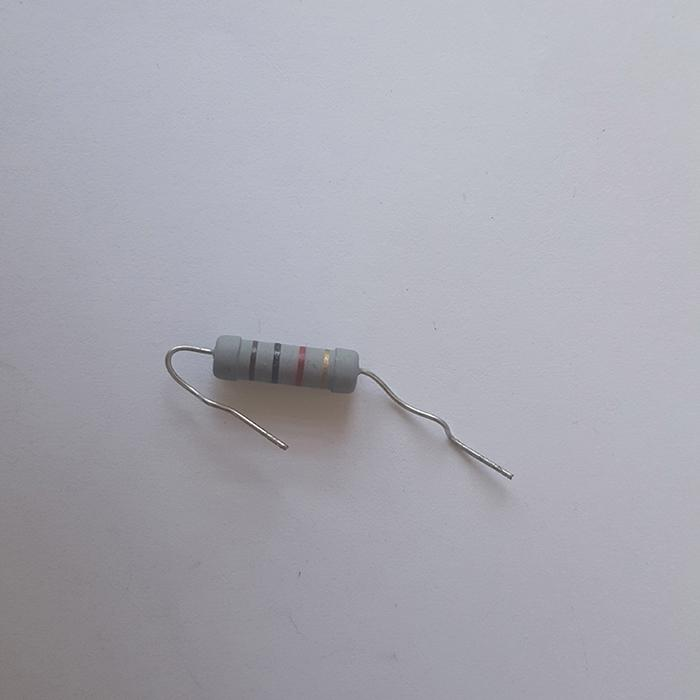resistor: (211, 334, 359, 393)
